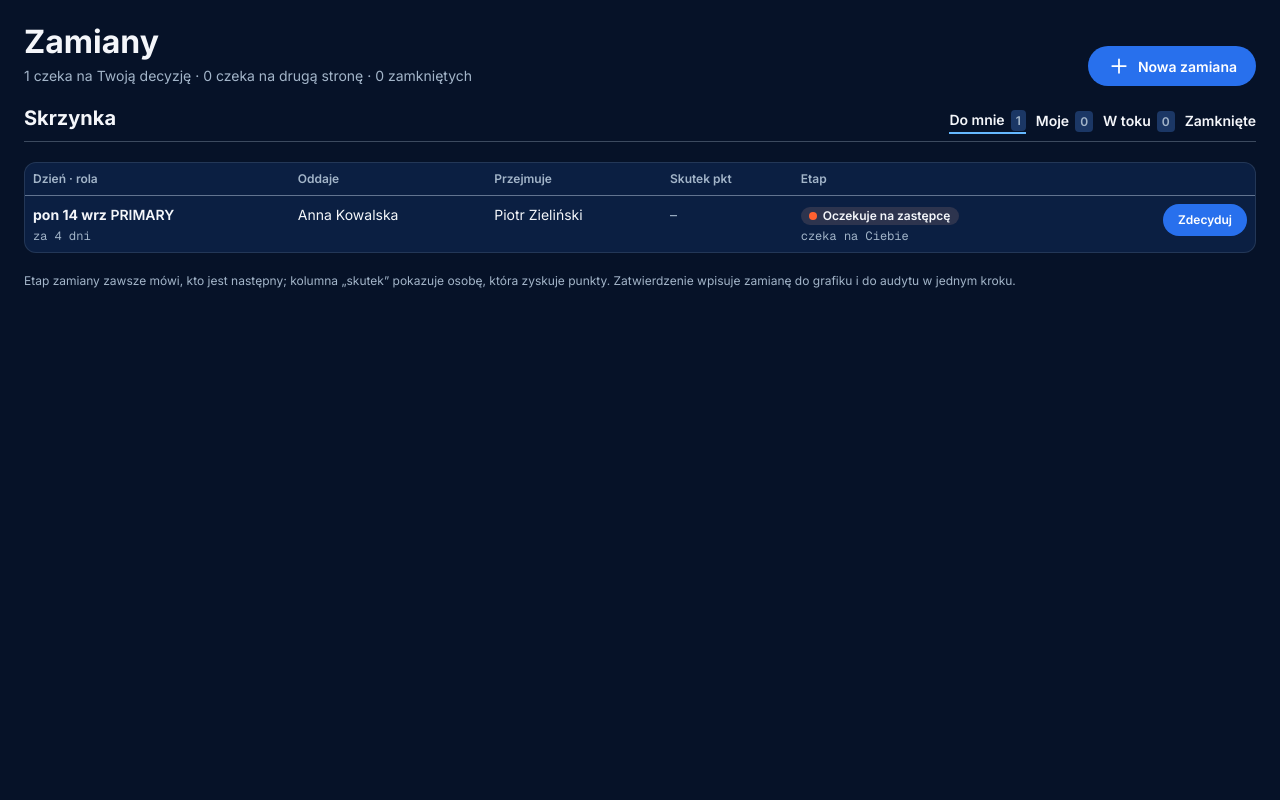
Test case: SwapPanel inbox › rejects only with a reason, typed in the sheet itself
The width and height of the screenshot is (1280, 800).
Expected: the field labelled "Powód odrzucenia" is not shown
Click the button "Zdecyduj": (1205, 220) [1163, 204, 1247, 236]
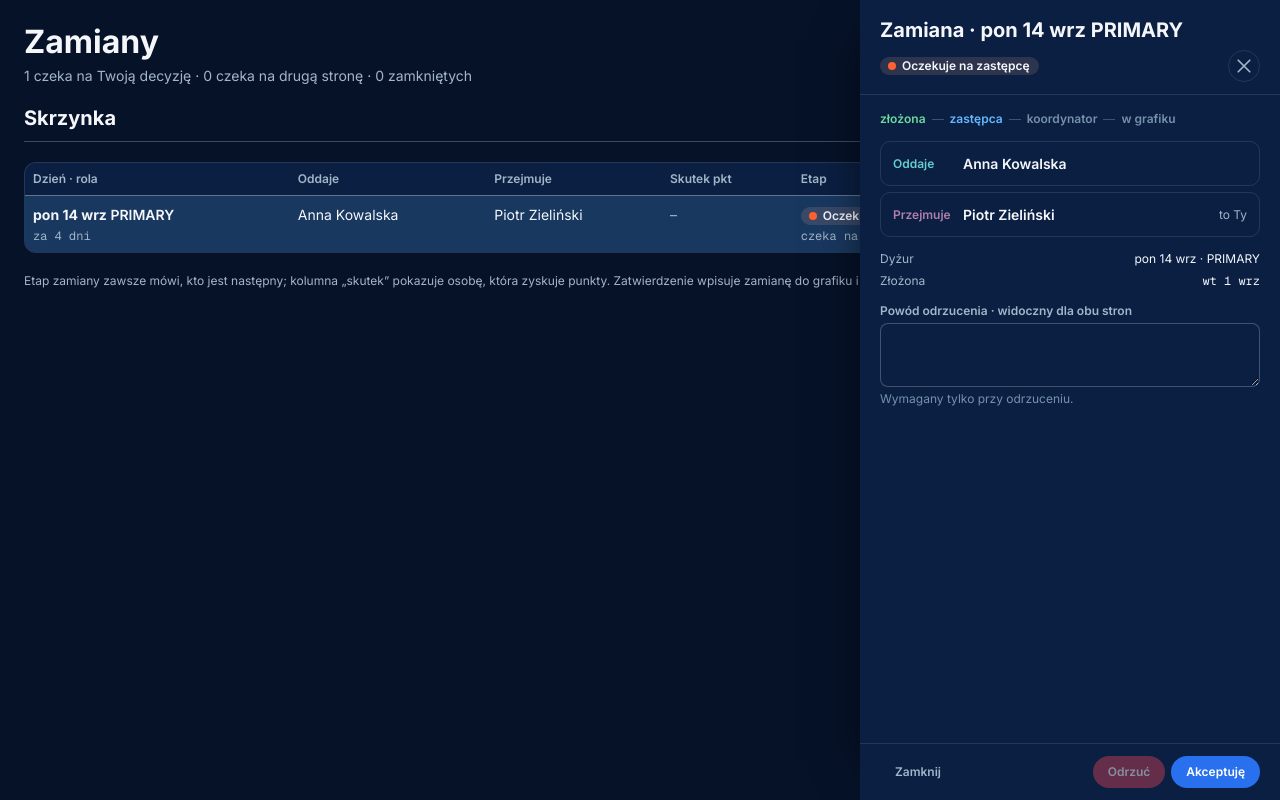
Expected: the button "Odrzuć" is disabled, [1093, 756, 1165, 788]
In the text box labelled "Powód odrzucenia · widoczny dla obu stron": (1070, 355) [880, 323, 1260, 387], type "Jestem na urlopie"
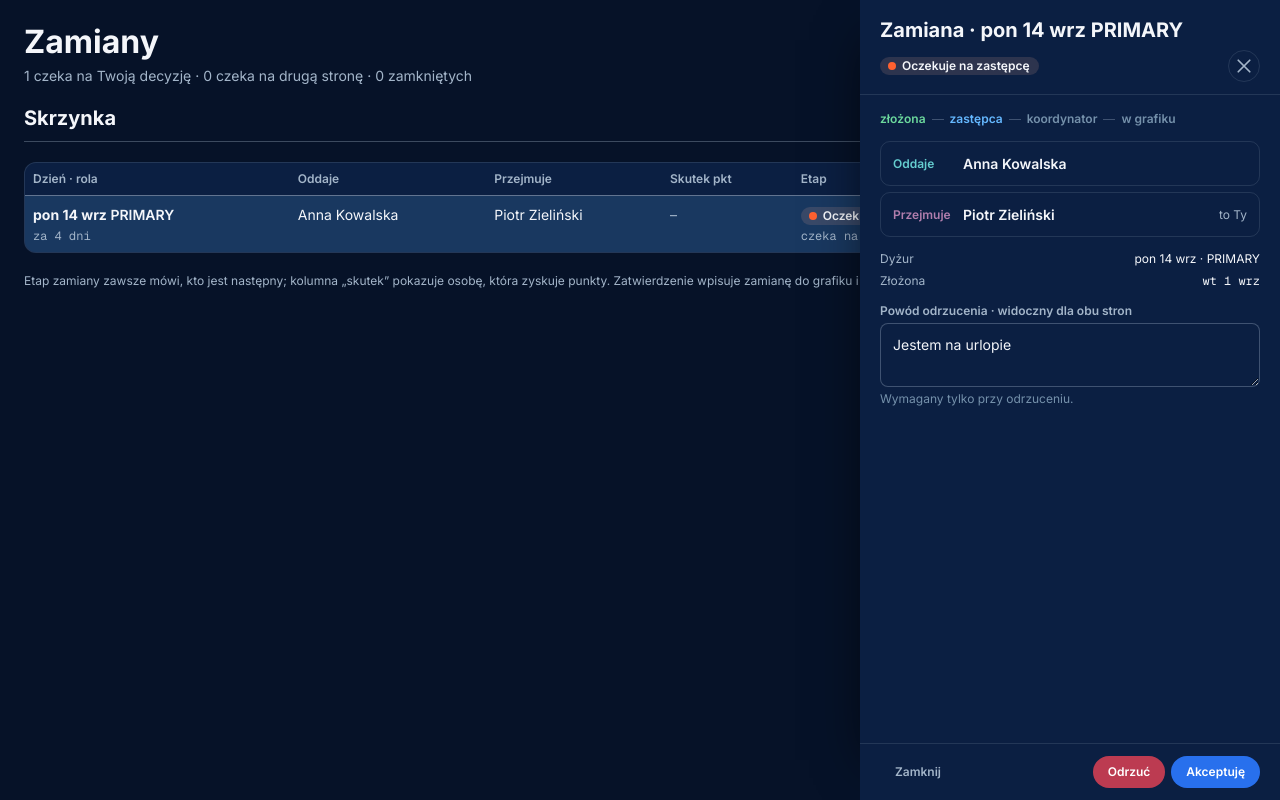
Expected: the button "Odrzuć" is enabled
Click the button "Odrzuć": (1129, 772) [1093, 756, 1165, 788]
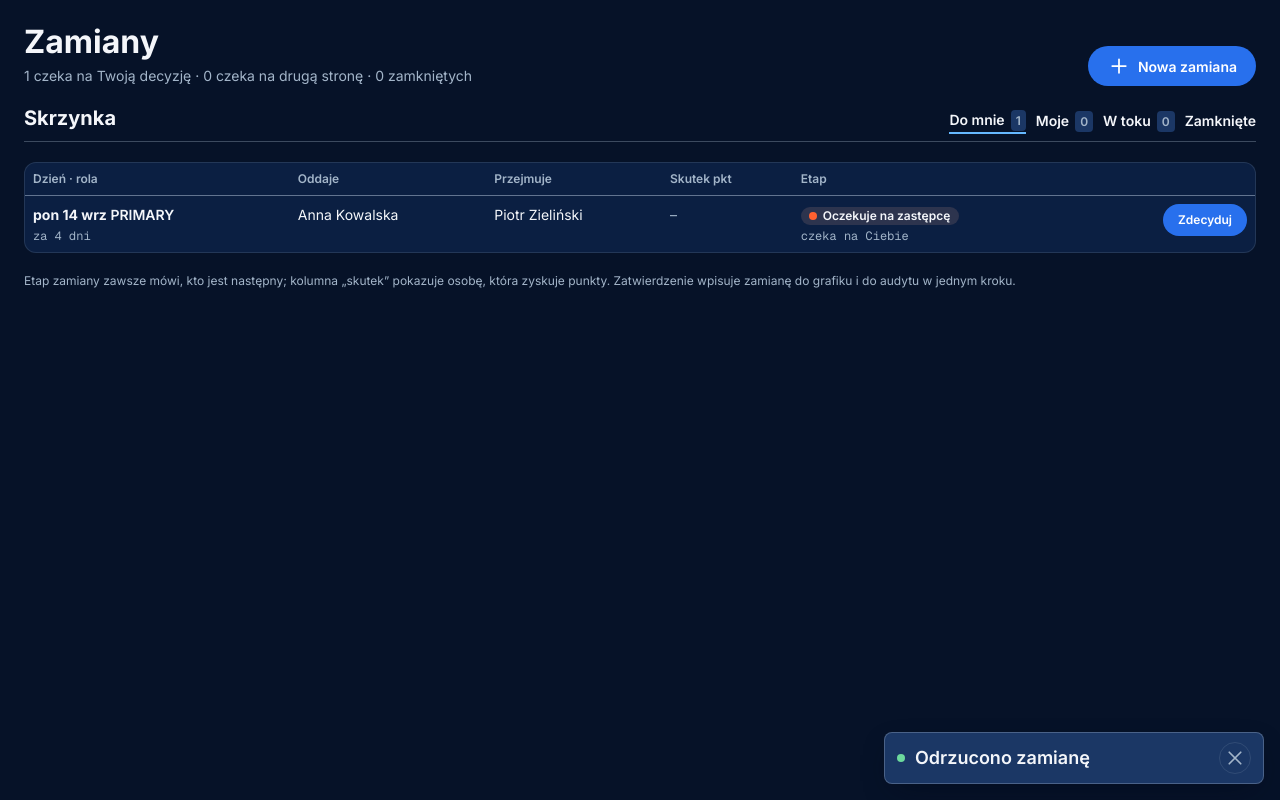
Expected: the heading "Zamiana ·" is gone
Expected: the heading "Odrzucono zamianę" is shown, [915, 747, 1090, 768]
